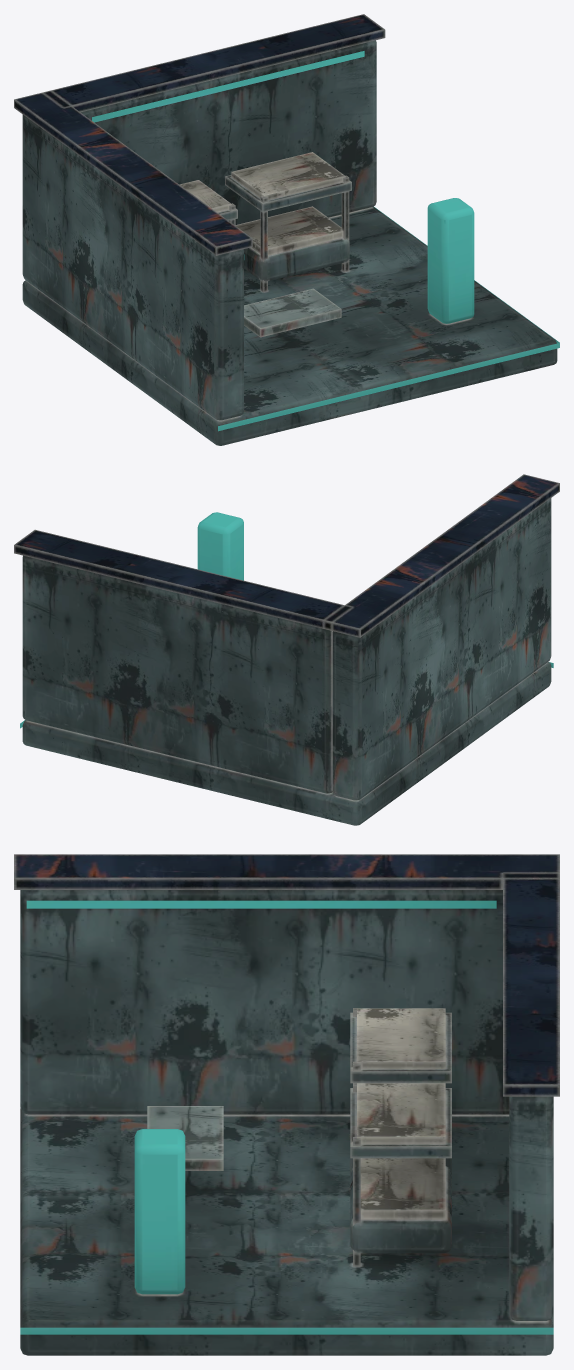
Rendered from habitat_t3.glb.
The picture shows the model from 3 angles, top to bottom: view 1: azimuth 30°, elevation 25°; view 2: azimuth 150°, elevation 25°; view 3: azimuth 270°, elevation 25°; orthographic projection. The views are drawn at different scales.
Visible parts, largest first — view 1: te_habitat_t3; view 2: te_habitat_t3; view 3: te_habitat_t3.
Part boxes in pixels (x1,y1,x2,y2): te_habitat_t3: (14,14,559,445); te_habitat_t3: (14,474,559,825); te_habitat_t3: (14,854,559,1355).
Bounding box in the file's own units: 0.86 × 0.48 × 0.86.
1 material, 1 textured.
